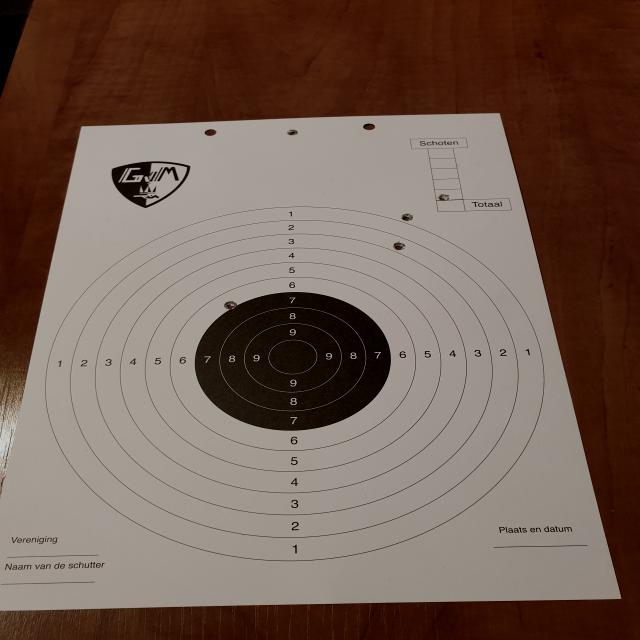0: (401, 212, 413, 222), (437, 194, 450, 201), (286, 129, 298, 136)
2: (392, 240, 406, 252)
7: (224, 300, 238, 311)
Target: (42, 204, 546, 565)
black_contour: (195, 291, 391, 431)
